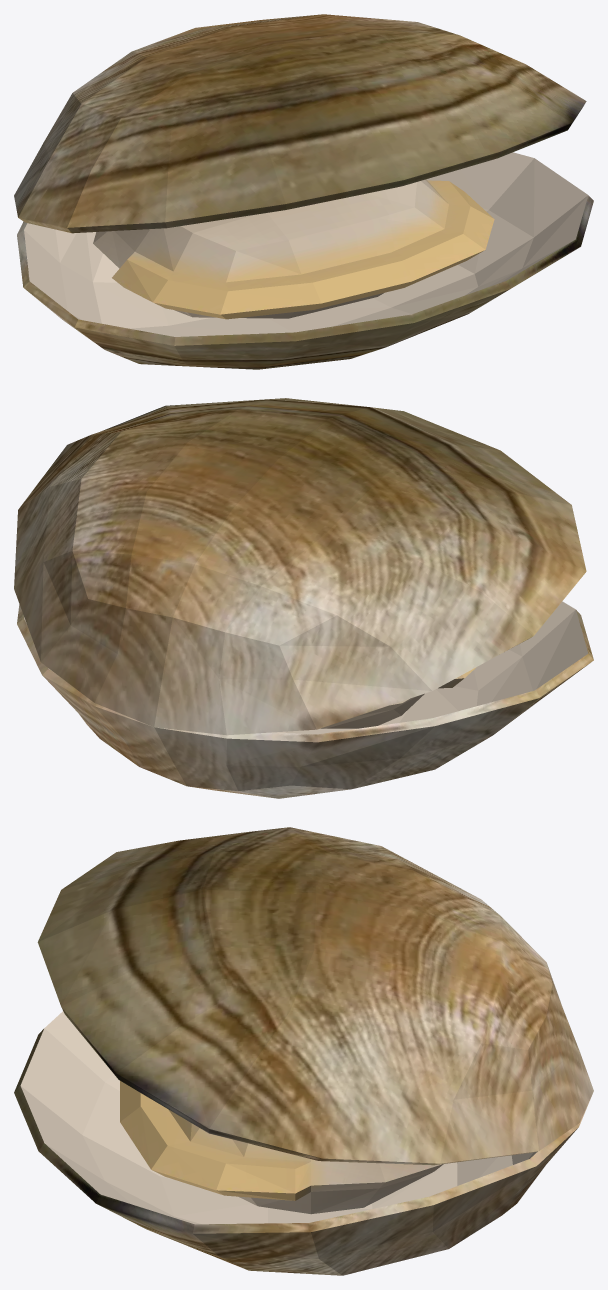
File: ClambyPoly.glb
3 renders of one model, top to bottom at view 1: azimuth 30°, elevation 25°; view 2: azimuth 150°, elevation 25°; view 3: azimuth 270°, elevation 25°, orthographic. The views are drawn at different scales.
Parts seen in each view (by area): view 1: Node; view 2: Node; view 3: Node.
Boxes of the visible parts, x1,y1,x2,y2 form: Node: (14,14,593,369); Node: (14,398,593,798); Node: (14,827,593,1275).
Bounding box in the file's own units: 1.11 × 0.6029 × 0.9629.
Materials: 2 (1 with a texture image).
